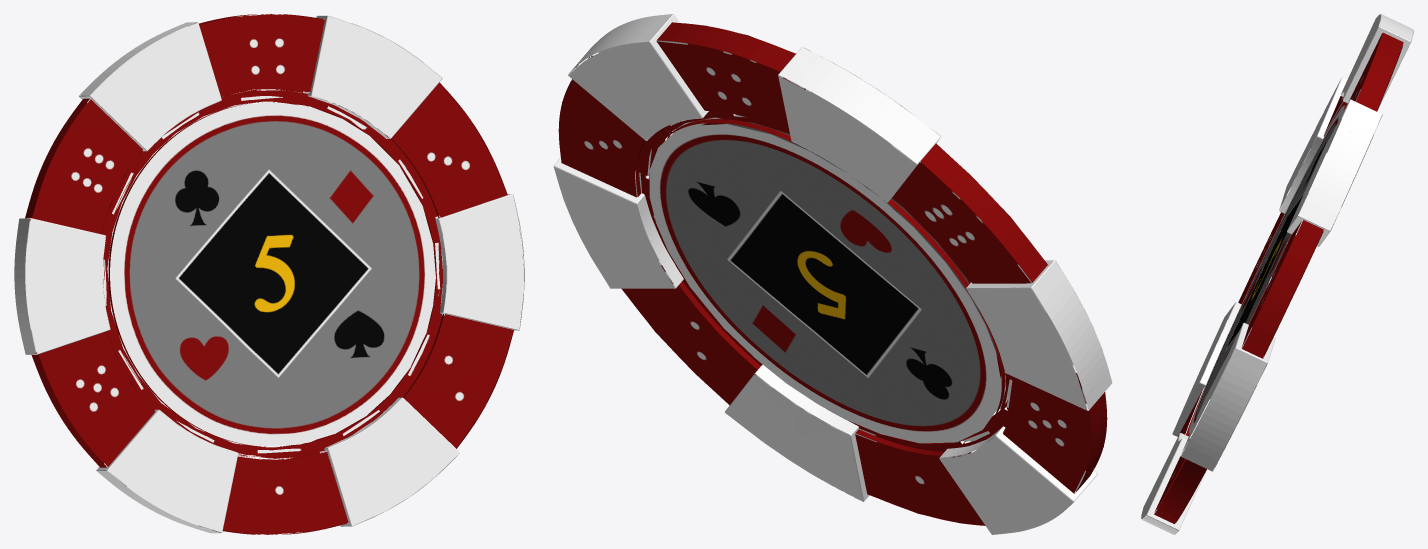
The model's file is 面少筹码.fbx.
3 renders of one model, left to right at view 1: azimuth 30°, elevation 25°; view 2: azimuth 150°, elevation 25°; view 3: azimuth 270°, elevation 25°, orthographic. The views are drawn at different scales.
Visible parts, largest first — view 1: 7d5f4686-0b18-4b04-9771-e9b4f2a2f64f, f94f3bf5-7f35-4415-b0e5-480069d8aa14; view 2: 7d5f4686-0b18-4b04-9771-e9b4f2a2f64f, f94f3bf5-7f35-4415-b0e5-480069d8aa14; view 3: f94f3bf5-7f35-4415-b0e5-480069d8aa14, 7d5f4686-0b18-4b04-9771-e9b4f2a2f64f.
Part boxes in pixels (x1,y1,x2,y2): 7d5f4686-0b18-4b04-9771-e9b4f2a2f64f: (25, 14, 513, 534); f94f3bf5-7f35-4415-b0e5-480069d8aa14: (14, 15, 524, 533); 7d5f4686-0b18-4b04-9771-e9b4f2a2f64f: (558, 22, 1107, 525); f94f3bf5-7f35-4415-b0e5-480069d8aa14: (553, 14, 1112, 534); f94f3bf5-7f35-4415-b0e5-480069d8aa14: (1141, 14, 1413, 534); 7d5f4686-0b18-4b04-9771-e9b4f2a2f64f: (1154, 32, 1403, 523).
Bounding box in the file's own units: 107 × 99.62 × 52.11.
